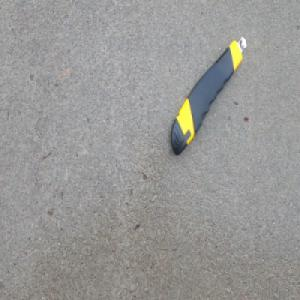Cutter: (169, 34, 248, 156)
